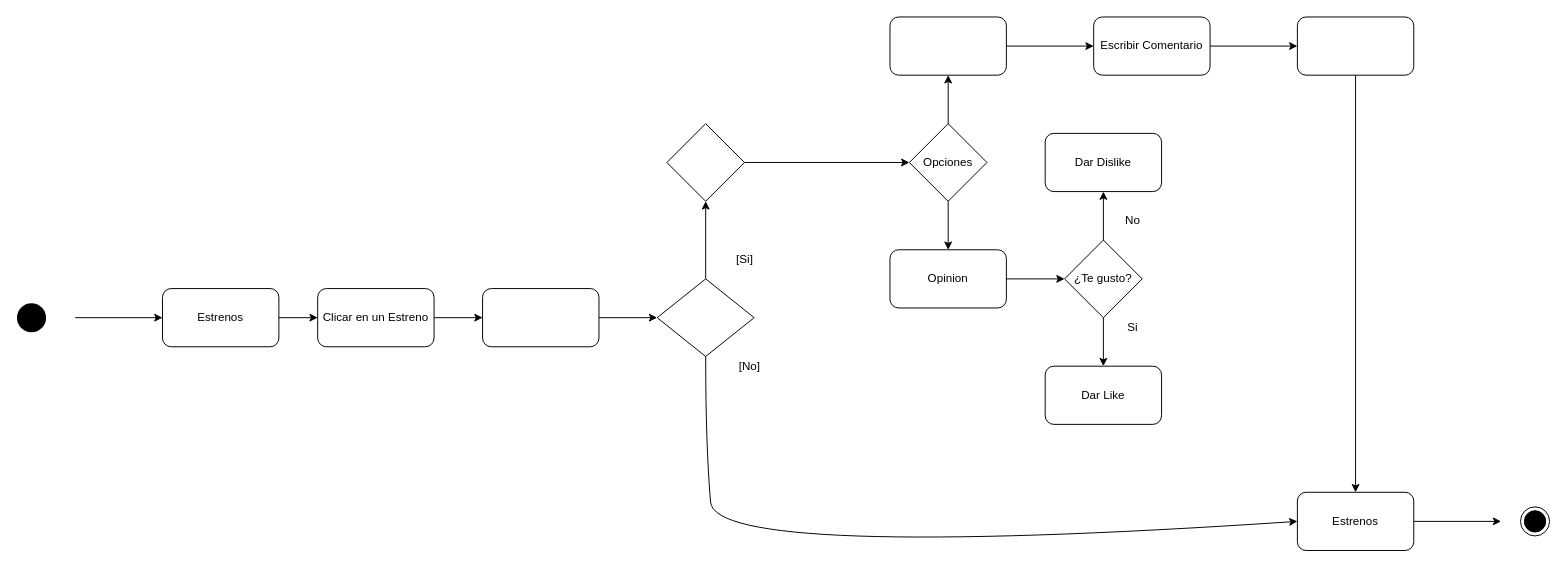
The diagram is 1567 pixels wide and 567 high, and some of its shapes have lost their labels. The centre of each missing label's shape, as x and y in pixels:
Comentario: (947,45)
Postear Comentario: (1355,45)
Ver Estreno: (540,317)
¿Que desea hacer?: (705,162)
¿Usuario Identificado?: (705,317)
